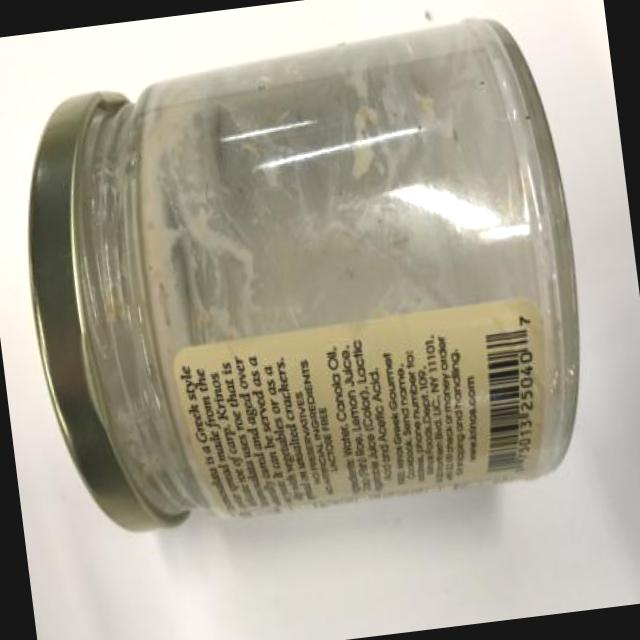chai_thuy_tinh: (69, 18, 581, 530)
nhom: (29, 93, 160, 533)
